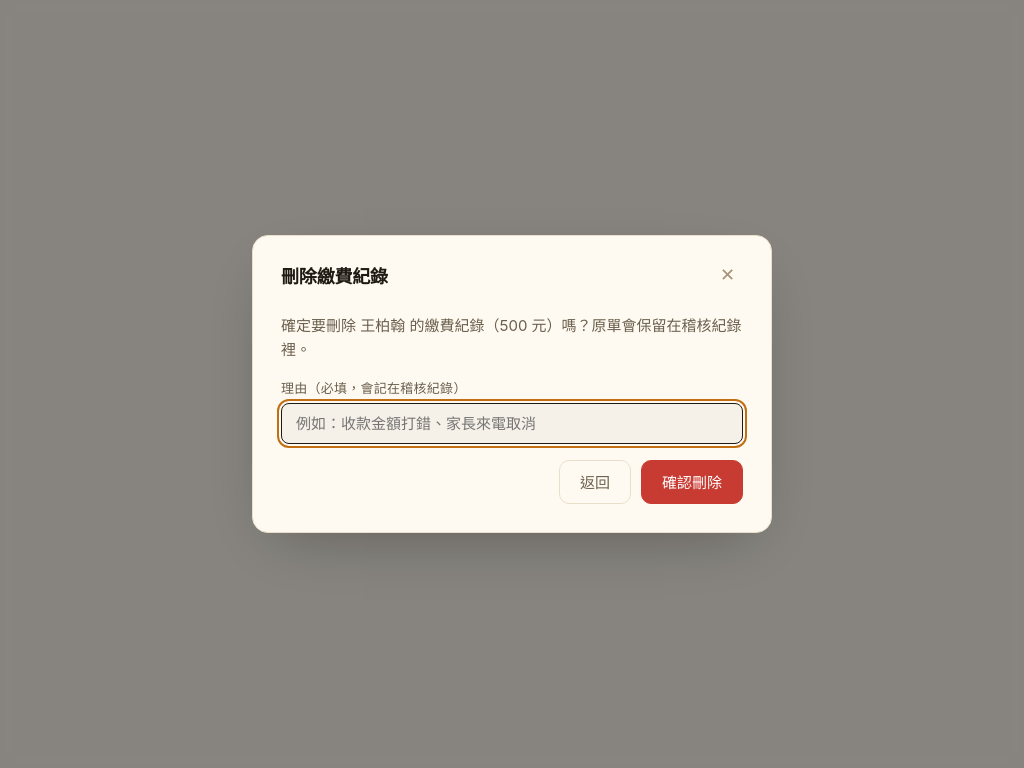
Test: DeleteConfirmDialog › M2：送出失敗時留在對話框並顯示原因
Click the button "確認刪除". click: (692, 482)
box: [641, 460, 743, 504]
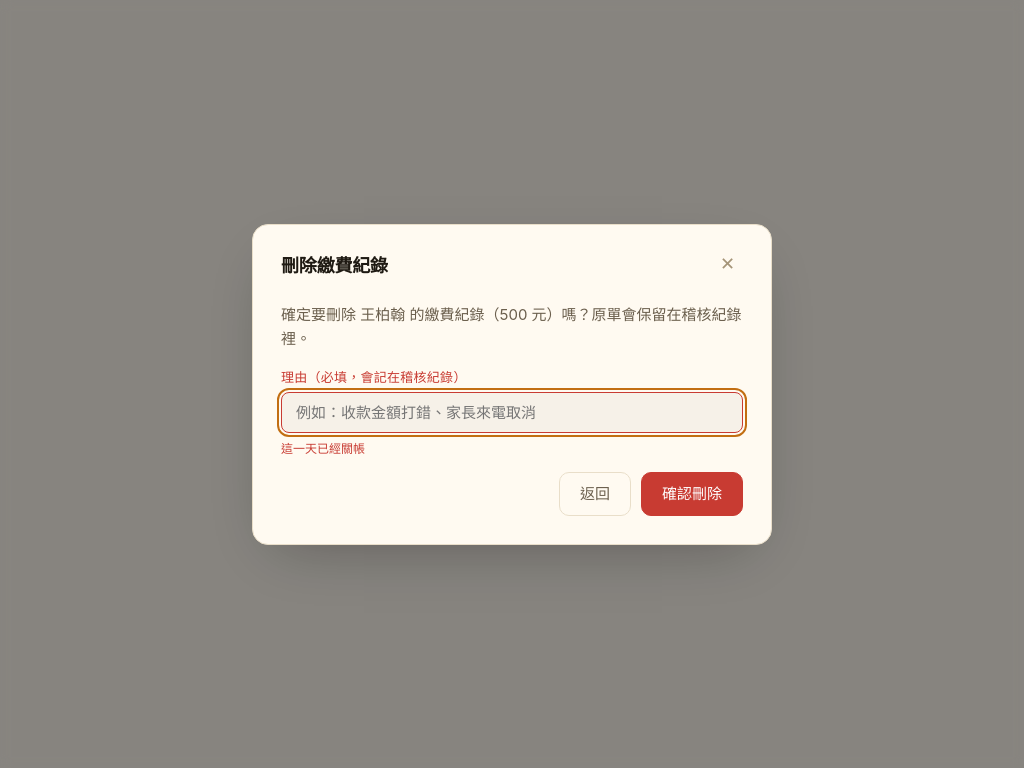
Expected: the message reads "這一天已經關帳", [281, 440, 365, 456]
